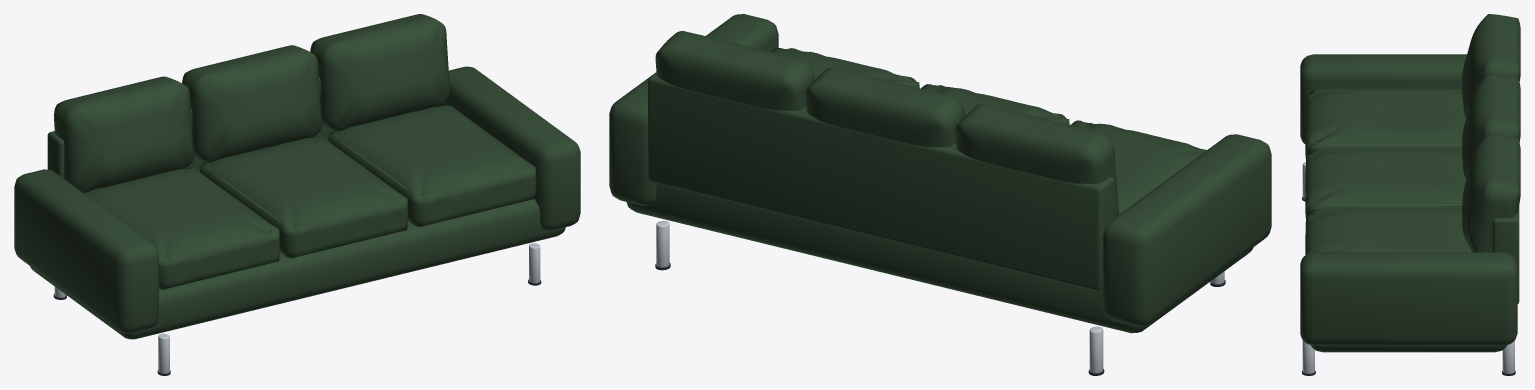
File: sofa.glb
3 renders of one model, left to right at view 1: azimuth 30°, elevation 25°; view 2: azimuth 150°, elevation 25°; view 3: azimuth 270°, elevation 25°, orthographic. The views are drawn at different scales.
Visible parts, largest first — view 1: catalog_surface_UVMap, catalog_surface_RealismUV; view 2: catalog_surface_UVMap, catalog_surface_RealismUV; view 3: catalog_surface_UVMap, catalog_surface_RealismUV.
Boxes of the visible parts, x1,y1,x2,y2 form: catalog_surface_UVMap: (14,14,580,375); catalog_surface_RealismUV: (54,41,540,373); catalog_surface_UVMap: (609,14,1271,375); catalog_surface_RealismUV: (656,48,1224,373); catalog_surface_UVMap: (1300,14,1520,375); catalog_surface_RealismUV: (1302,82,1514,373).
Bounding box in the file's own units: 2.1 × 0.85 × 0.9.
4 materials, 1 textured.
